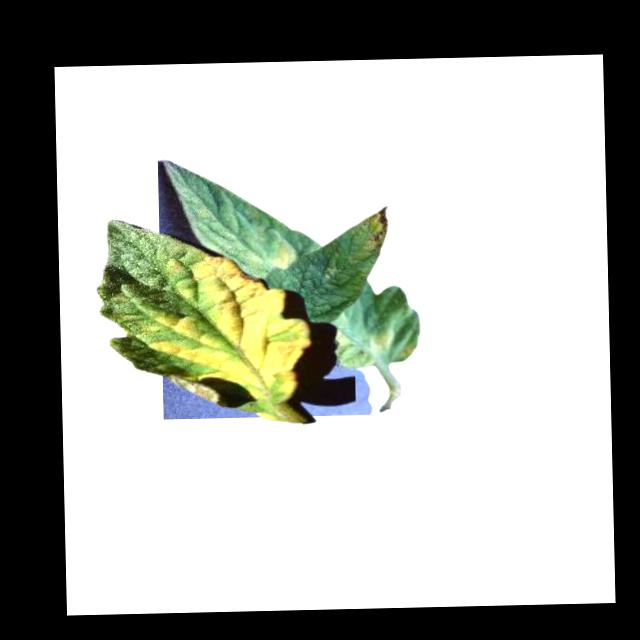Leaf_Mold: (112, 254, 312, 406), (353, 205, 389, 259), (246, 240, 296, 270)
